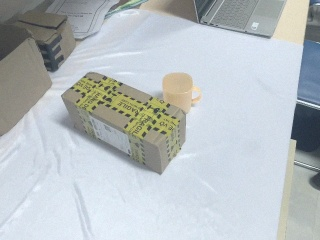box: (62, 72, 186, 173), (1, 21, 52, 141)
cup: (162, 72, 202, 115)
